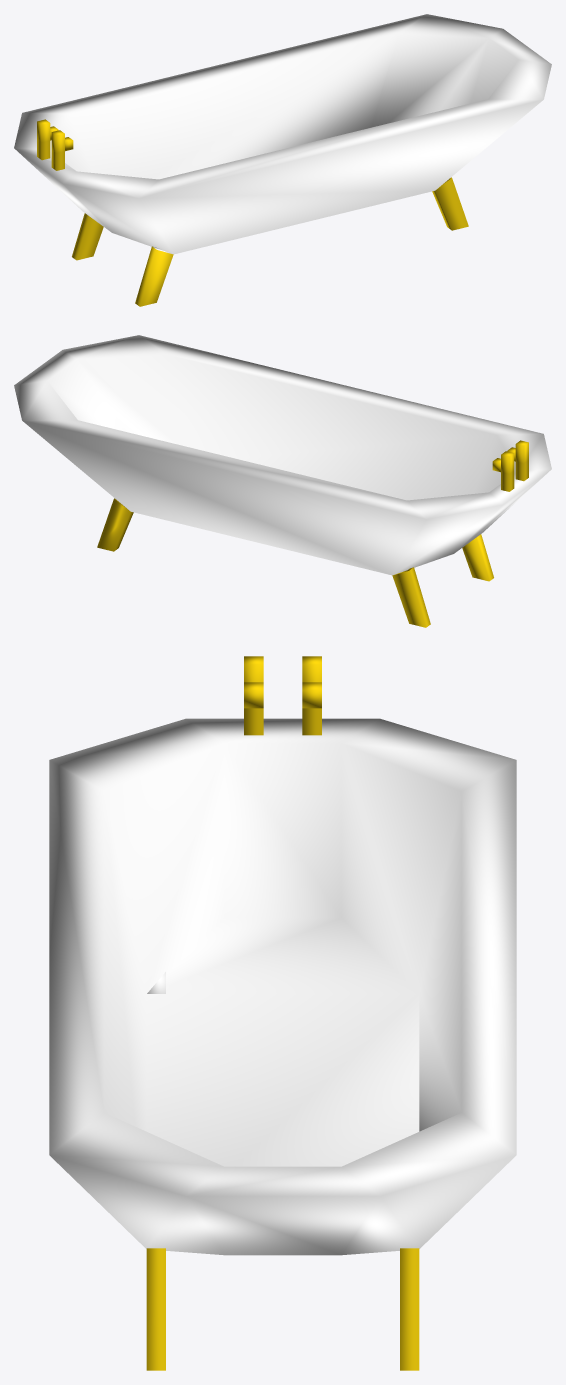
The model's file is Bathtub.fbx.
3 views of the same model, one above another, from view 1: azimuth 30°, elevation 25°; view 2: azimuth 150°, elevation 25°; view 3: azimuth 270°, elevation 25° (orthographic). The views are drawn at different scales.
Parts seen in each view (by area): view 1: Cube; view 2: Cube; view 3: Cube.
Part boxes in pixels (x1,y1,x2,y2): Cube: (14,14,551,306); Cube: (14,335,551,627); Cube: (49,656,516,1370).
Bounding box in the file's own units: 1.81 × 0.5938 × 0.75.
